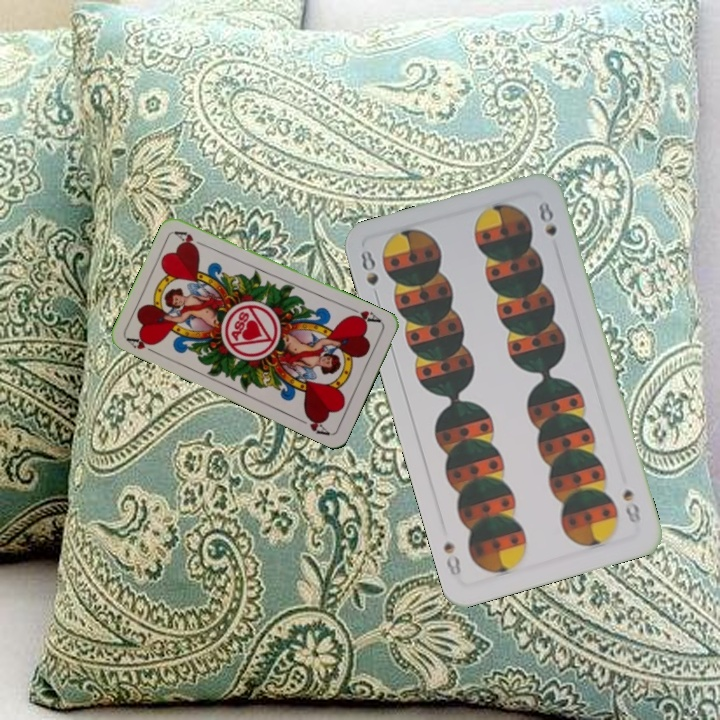HA: (123, 332, 161, 358), (345, 303, 384, 326)
S8: (356, 245, 382, 304), (618, 484, 643, 526)
